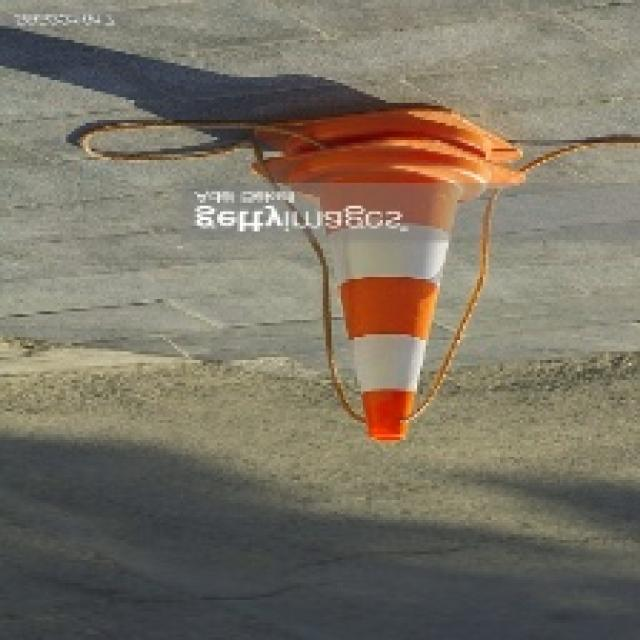cone: (243, 102, 530, 445)
